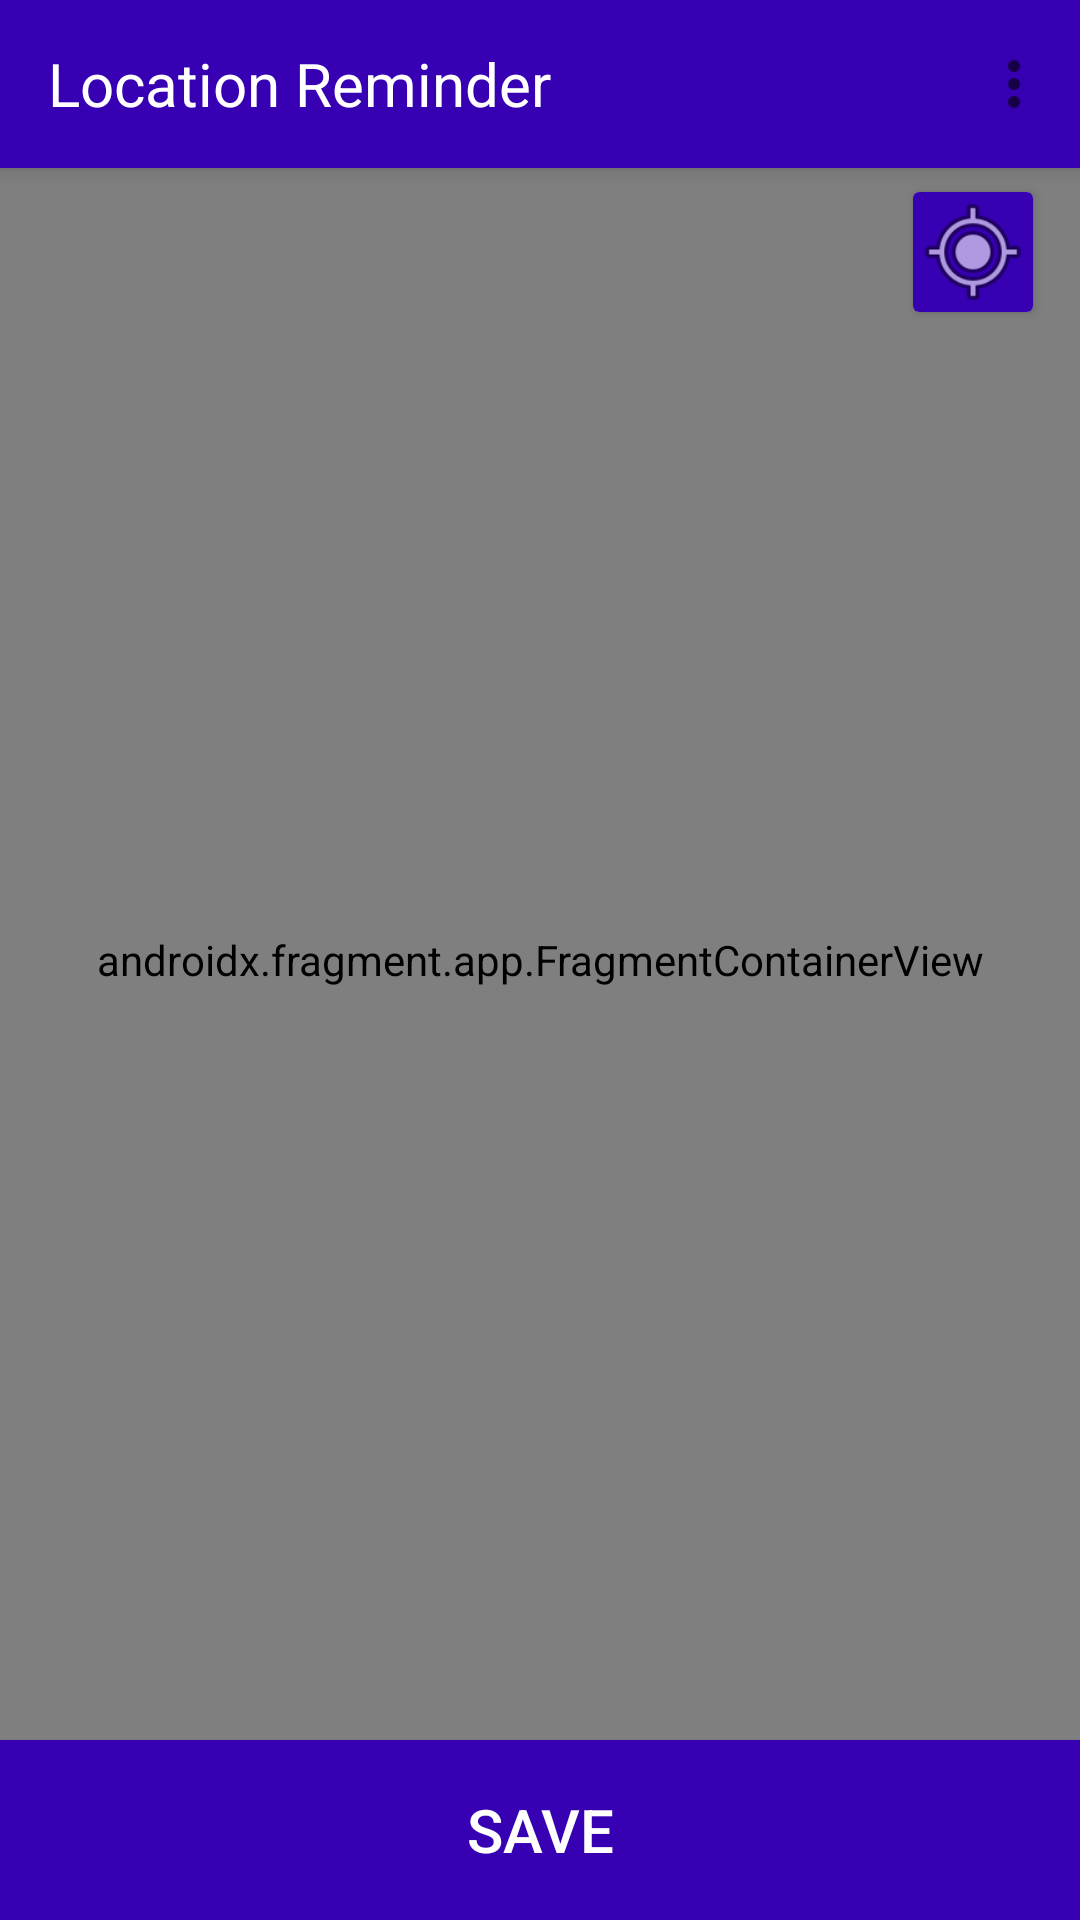

Point at icon controls on the screen. Image size 1080 × 1920, points as (x,y).
mylocation: (973,252)
